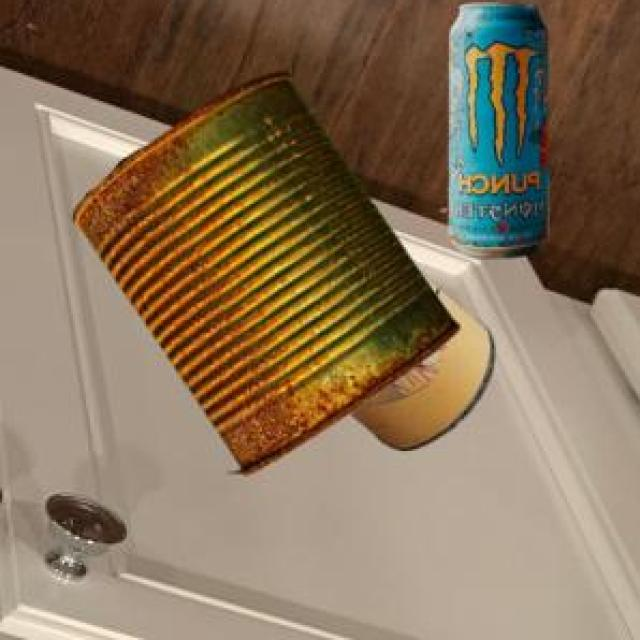logam: (70, 76, 456, 478), (347, 278, 491, 454), (446, 8, 544, 261)
